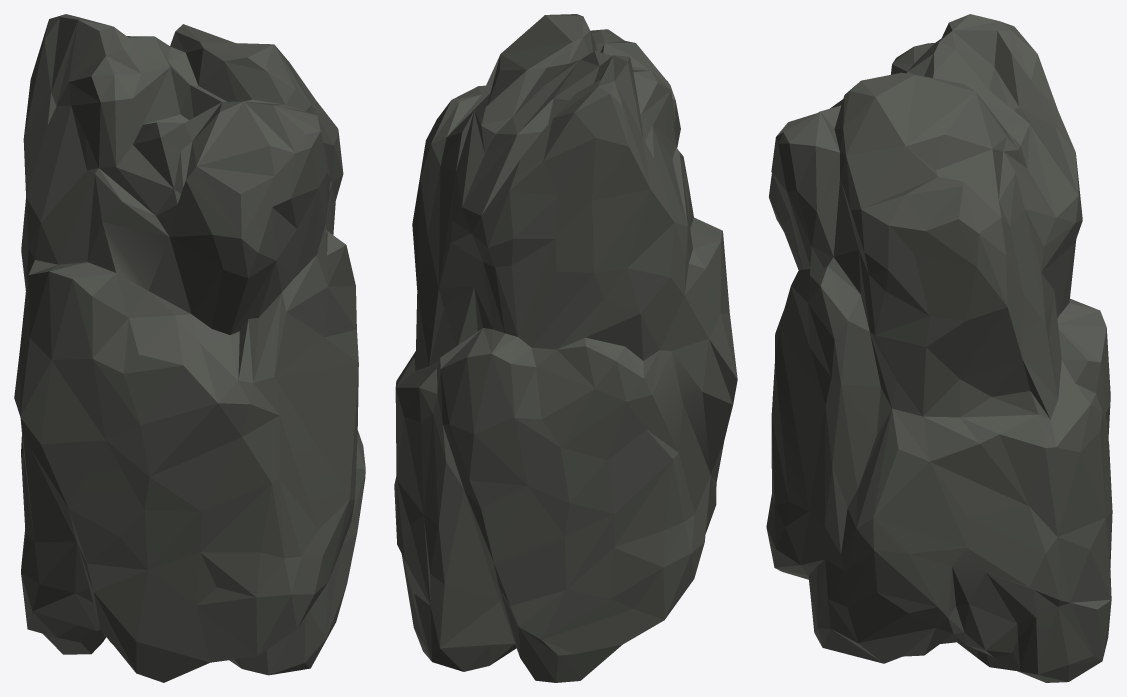
Rendered from Rock_Cliff_01.fbx.
3 views of the same model, side by side, from view 1: azimuth 30°, elevation 25°; view 2: azimuth 150°, elevation 25°; view 3: azimuth 270°, elevation 25° (orthographic). The views are drawn at different scales.
Parts seen in each view (by area): view 1: Rock_Cliff_01; view 2: Rock_Cliff_01; view 3: Rock_Cliff_01.
Part boxes in pixels (<box>): Rock_Cliff_01: <box>14,14,365,682</box>; Rock_Cliff_01: <box>394,14,737,682</box>; Rock_Cliff_01: <box>766,14,1112,682</box>.
Bounding box in the file's own units: 955 × 1873 × 976.
Materials: 1 (1 with a texture image).
